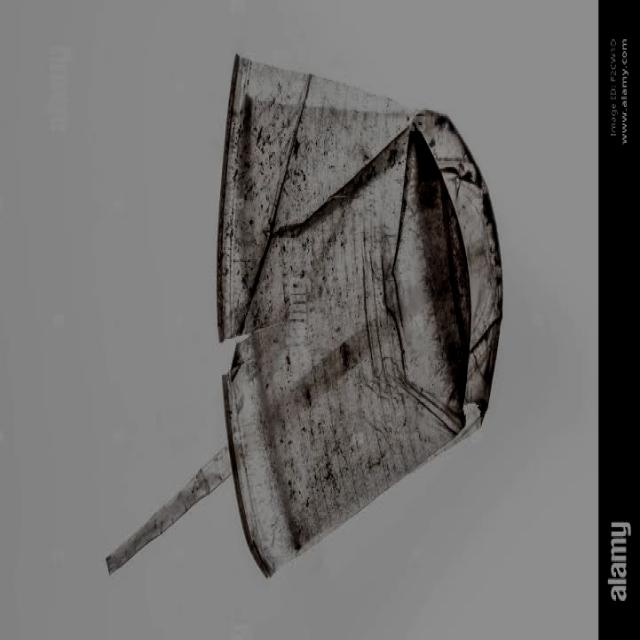residual: (211, 45, 511, 597)
